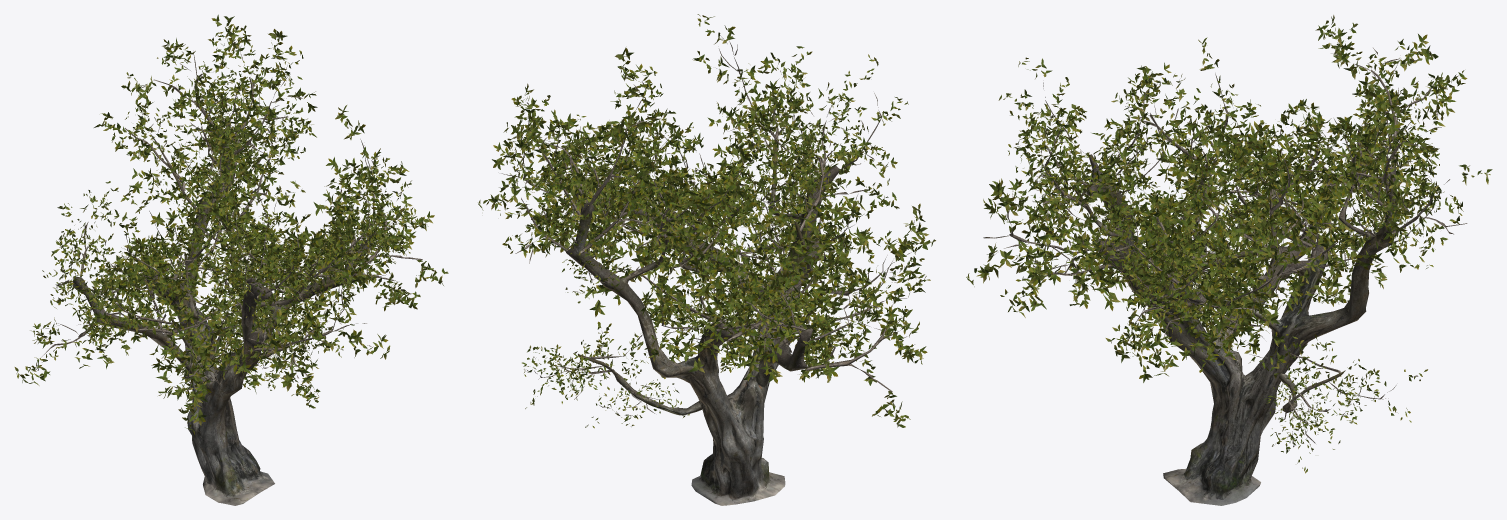
The picture shows the model from 3 angles, left to right: view 1: azimuth 30°, elevation 25°; view 2: azimuth 150°, elevation 25°; view 3: azimuth 270°, elevation 25°; orthographic projection. The views are drawn at different scales.
Visible parts, largest first — view 1: island_tree_01_lod0; view 2: island_tree_01_lod0; view 3: island_tree_01_lod0.
Boxes of the visible parts, left/top/right/bottom form: island_tree_01_lod0: left=14, top=14, right=448, bottom=505; island_tree_01_lod0: left=478, top=14, right=935, bottom=505; island_tree_01_lod0: left=966, top=15, right=1492, bottom=505.
Bounding box in the file's own units: 4.77 × 5.04 × 4.81.
3 materials, 3 textured.
